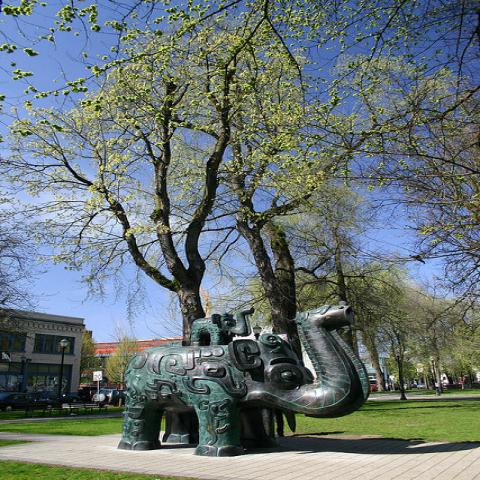car: (0, 393, 58, 414), (34, 391, 80, 403), (417, 384, 425, 389), (442, 382, 449, 387)
